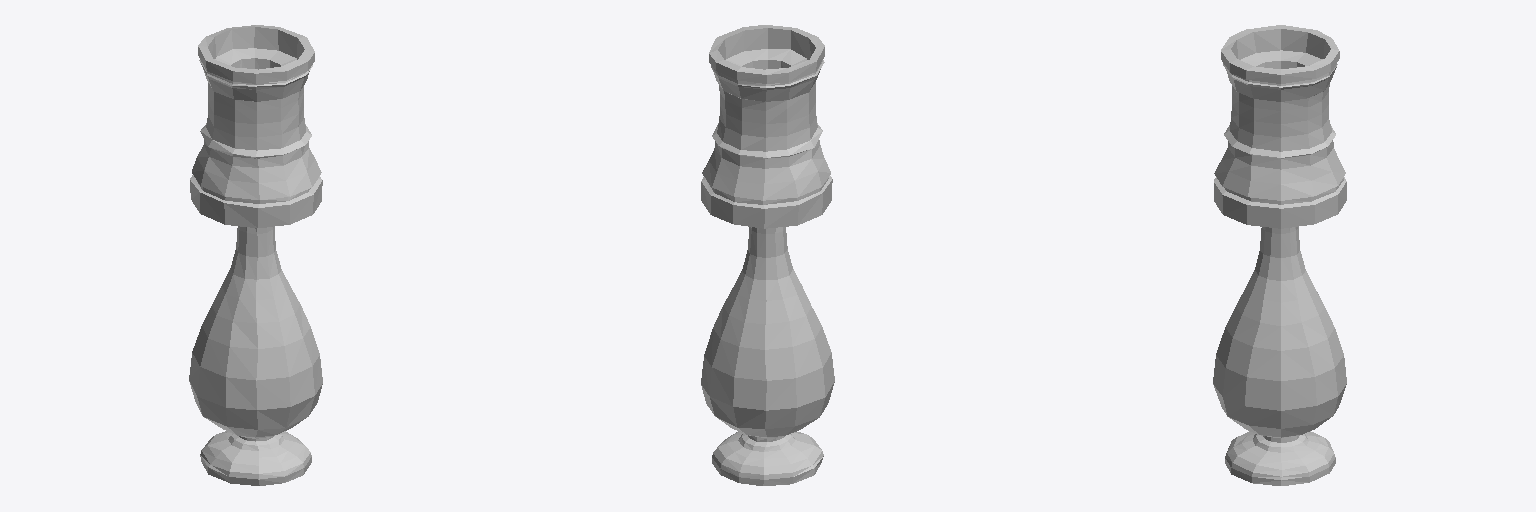
Rendered from wieza.obj.
The picture shows the model from 3 angles: view 1: azimuth 30°, elevation 25°; view 2: azimuth 150°, elevation 25°; view 3: azimuth 270°, elevation 25°; orthographic projection.
Parts seen in each view (by area): view 1: wieza.low.poly_Icosphere.004; view 2: wieza.low.poly_Icosphere.004; view 3: wieza.low.poly_Icosphere.004.
Boxes of the visible parts, box(x1,y1,x2,y2) form: wieza.low.poly_Icosphere.004: box(189, 25, 322, 485); wieza.low.poly_Icosphere.004: box(701, 25, 834, 485); wieza.low.poly_Icosphere.004: box(1213, 25, 1346, 485).
Size of the model in its own units: 1.22 by 4.16 by 1.22.